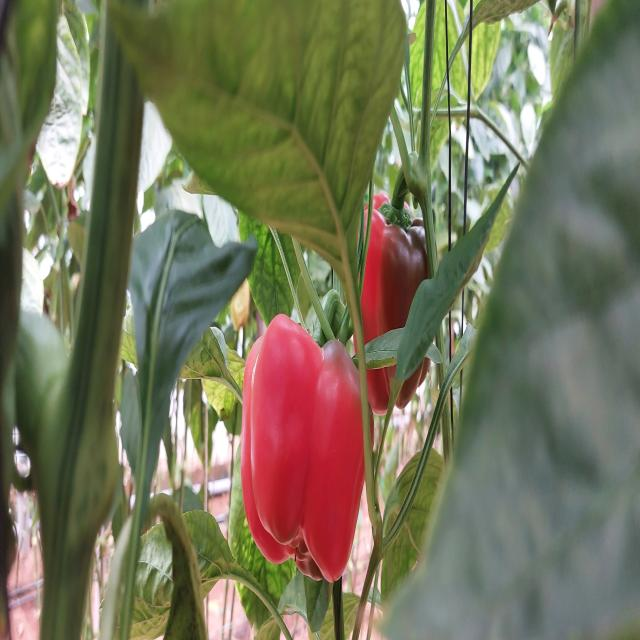Red-Ready-to-Harvest: (237, 310, 372, 582), (342, 178, 438, 438)
